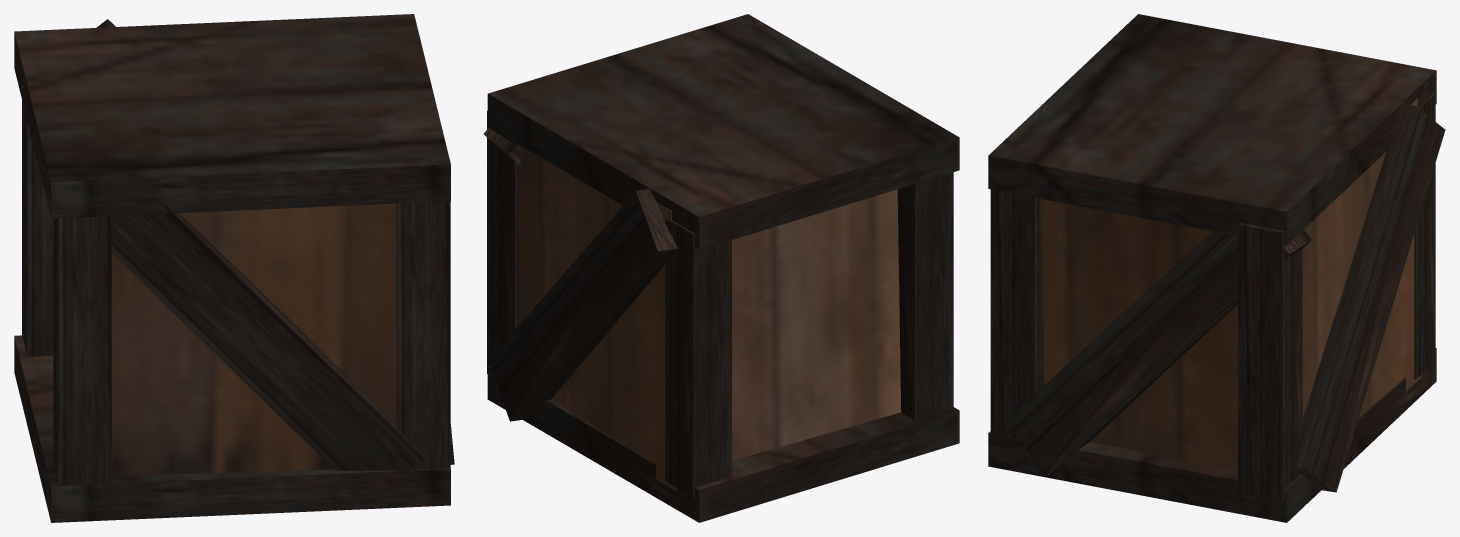
The model's file is LA_CAJA.fbx.
The picture shows the model from 3 angles, left to right: view 1: azimuth 30°, elevation 25°; view 2: azimuth 150°, elevation 25°; view 3: azimuth 270°, elevation 25°; orthographic projection. The views are drawn at different scales.
Visible parts, largest first — view 1: Cube.110; view 2: Cube.110; view 3: Cube.110.
Boxes of the visible parts, bbox=[...] form: Cube.110: bbox=[14, 14, 454, 522]; Cube.110: bbox=[483, 14, 959, 522]; Cube.110: bbox=[988, 14, 1445, 522].
Bounding box in the file's own units: 405 × 295 × 392.
